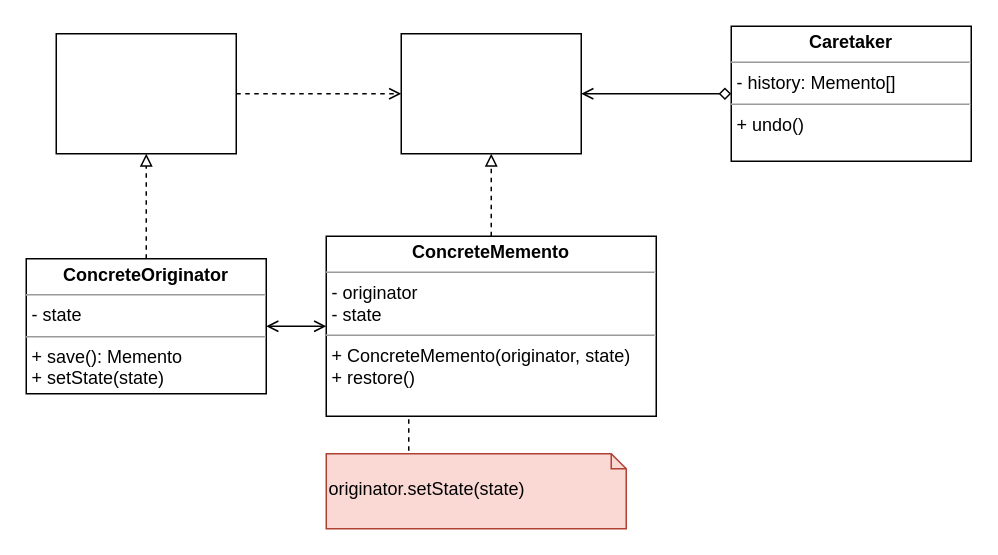
Some shapes in this 998 by 555 pixel diagram are drawn without their labels. The shapes that lost their labels are listed below. From the top down, each one's centre as x and y in pixels, then its label:
(145,93): <<Interface>> Originator + save(): Memento
(490,93): <<Interface>> Memento + restore()
